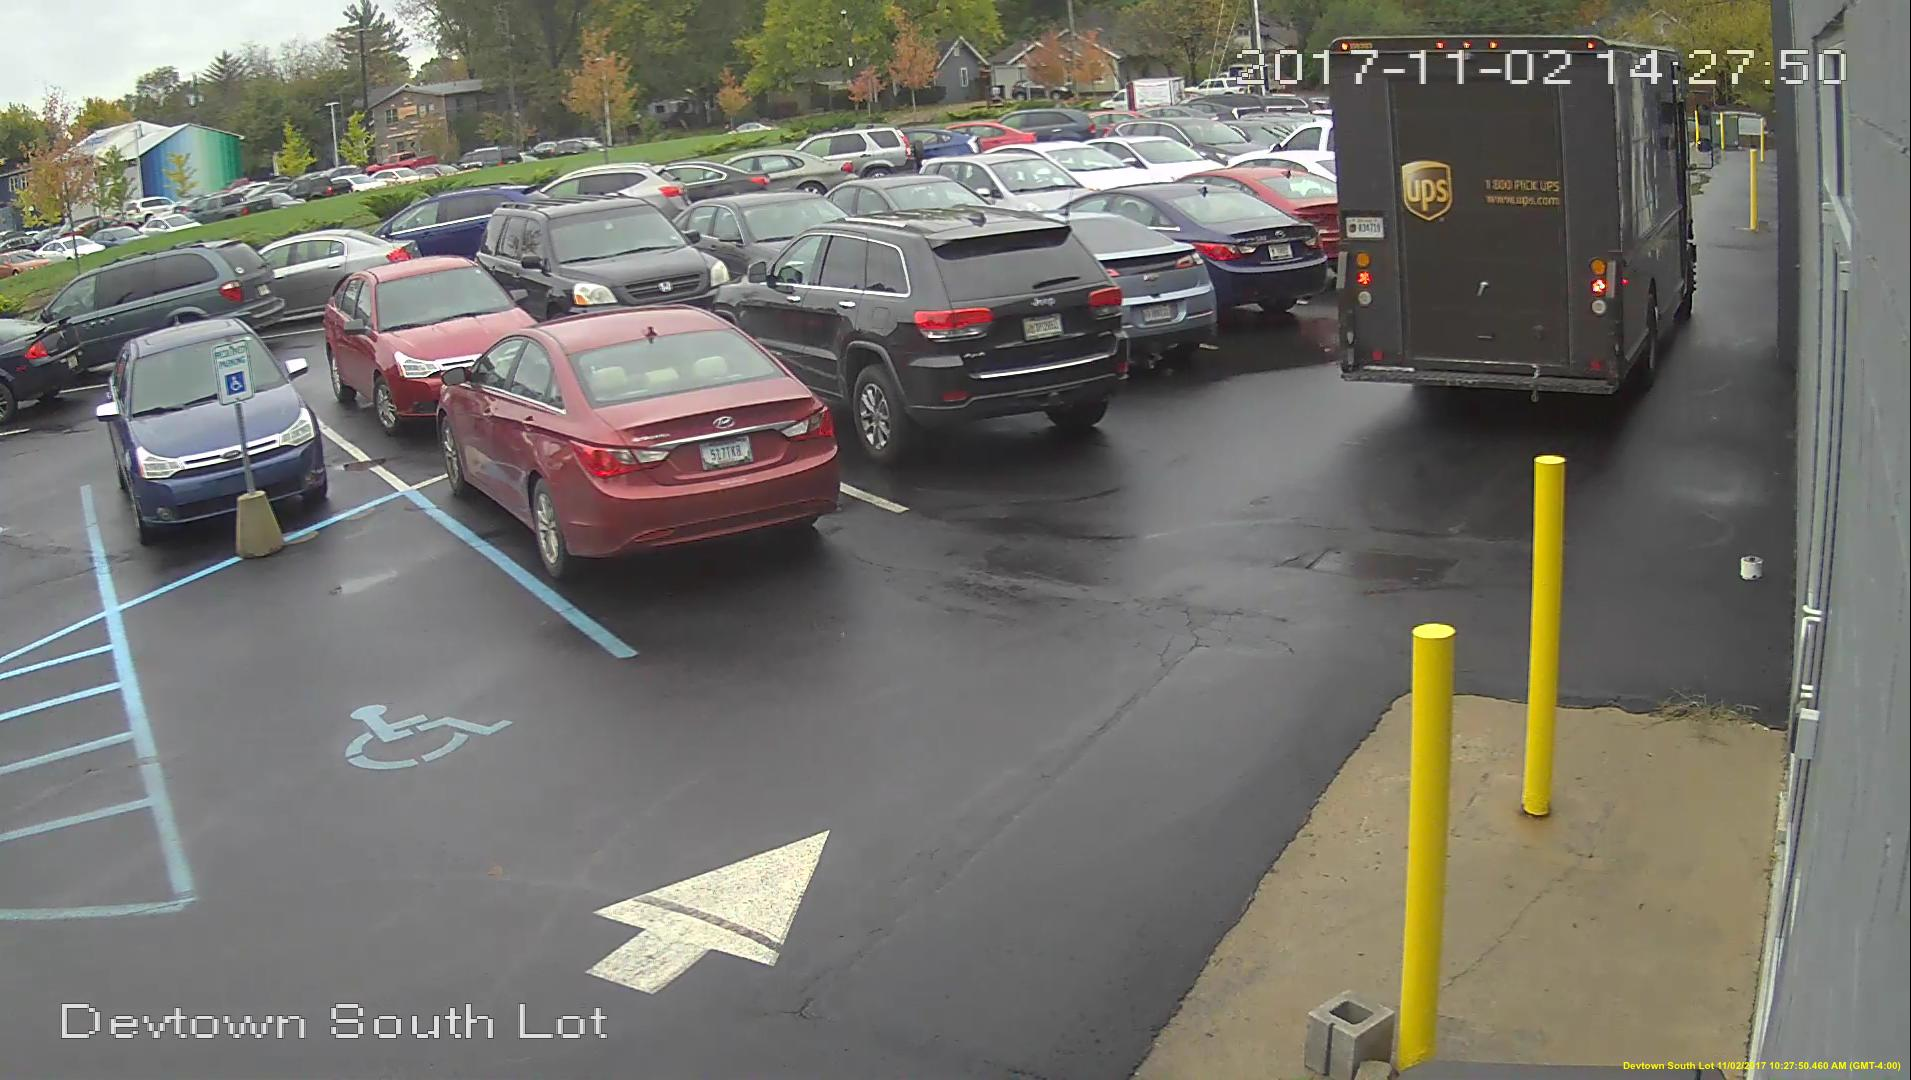ups_truck: (1339, 34, 1690, 405)
